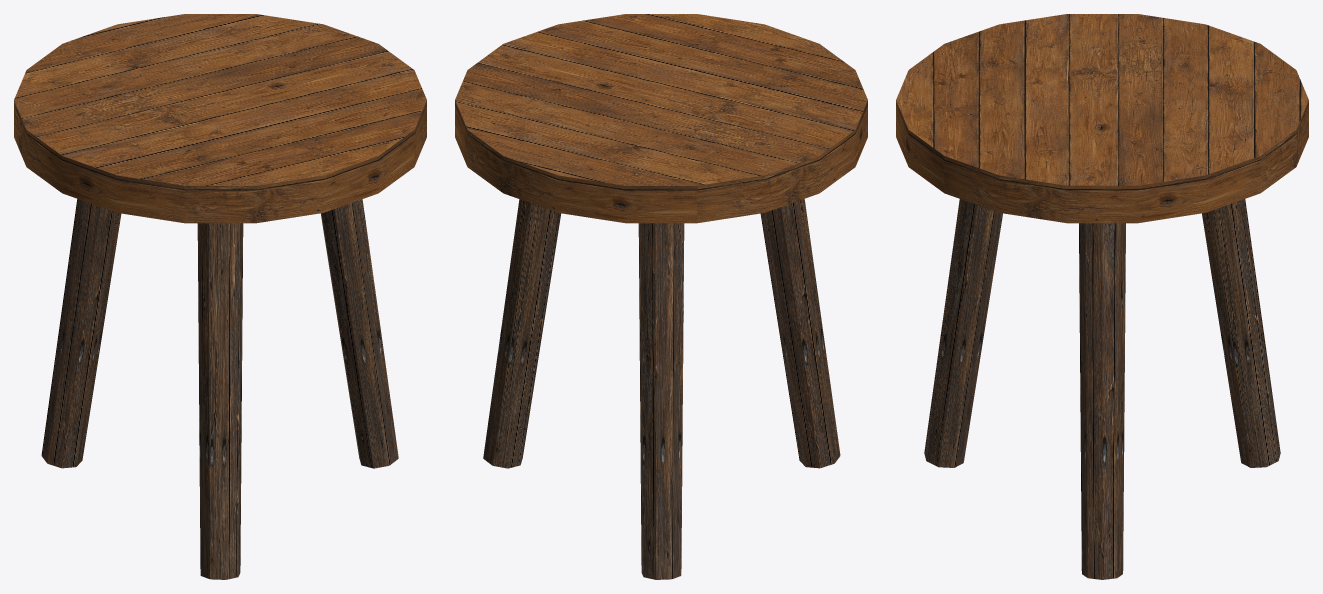
Rendered from stool-v01.glb.
The picture shows the model from 3 angles, left to right: view 1: azimuth 30°, elevation 25°; view 2: azimuth 150°, elevation 25°; view 3: azimuth 270°, elevation 25°; orthographic projection.
Parts seen in each view (by area): view 1: stool; view 2: stool; view 3: stool.
Part boxes in pixels (x1,y1,x2,y2): stool: [14, 14, 426, 579]; stool: [455, 14, 867, 579]; stool: [896, 14, 1308, 579].
Size of the model in its own units: 0.5911 by 0.641 by 0.6.
2 materials, 2 textured.
